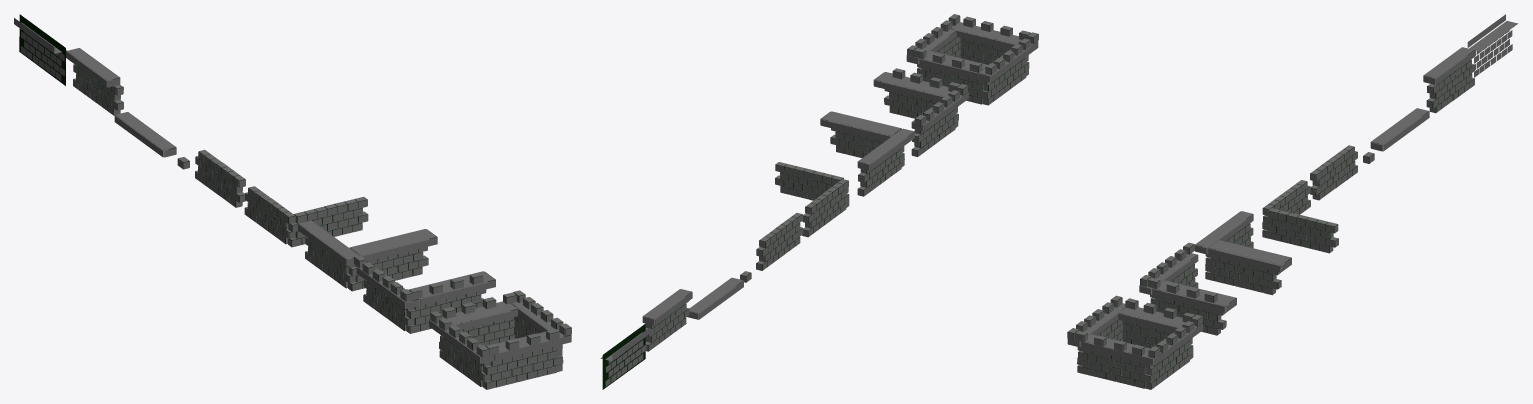
The model's file is RockwallObjects.fbx.
3 renders of one model, left to right at view 1: azimuth 30°, elevation 25°; view 2: azimuth 150°, elevation 25°; view 3: azimuth 330°, elevation 25°, orthographic. The views are drawn at different scales.
Parts seen in each view (by area): view 1: TowerTurret, TurretCorner, CornerWithSlab, Corner, WallWithSlab, FacadWall, Wall, Slab; view 2: TowerTurret, TurretCorner, CornerWithSlab, Corner, WallWithSlab, FacadWall, Wall, Slab; view 3: TowerTurret, CornerWithSlab, TurretCorner, Corner, WallWithSlab, FacadWall, Wall, Slab.
Part boxes in pixels (x1,y1,x2,y2): TowerTurret: (429, 290, 571, 389); TurretCorner: (354, 255, 495, 333); CornerWithSlab: (298, 220, 437, 291); Corner: (244, 186, 368, 247); WallWithSlab: (66, 48, 123, 115); FacadWall: (14, 14, 66, 85); Wall: (195, 149, 245, 207); Slab: (114, 112, 176, 157); TowerTurret: (906, 14, 1038, 105); TurretCorner: (873, 68, 968, 156); CornerWithSlab: (820, 111, 914, 196); Corner: (775, 162, 849, 237); WallWithSlab: (642, 289, 692, 351); FacadWall: (600, 324, 649, 389); Wall: (756, 213, 803, 270); Slab: (687, 277, 743, 319); TowerTurret: (1067, 295, 1203, 389); CornerWithSlab: (1195, 211, 1291, 295); TurretCorner: (1139, 242, 1236, 335); Corner: (1262, 180, 1338, 253); WallWithSlab: (1423, 47, 1474, 113); FacadWall: (1467, 14, 1518, 77); Wall: (1309, 145, 1357, 200); Slab: (1370, 108, 1429, 151).
Size of the model in its own units: 28.07 by 12.88 by 241.
